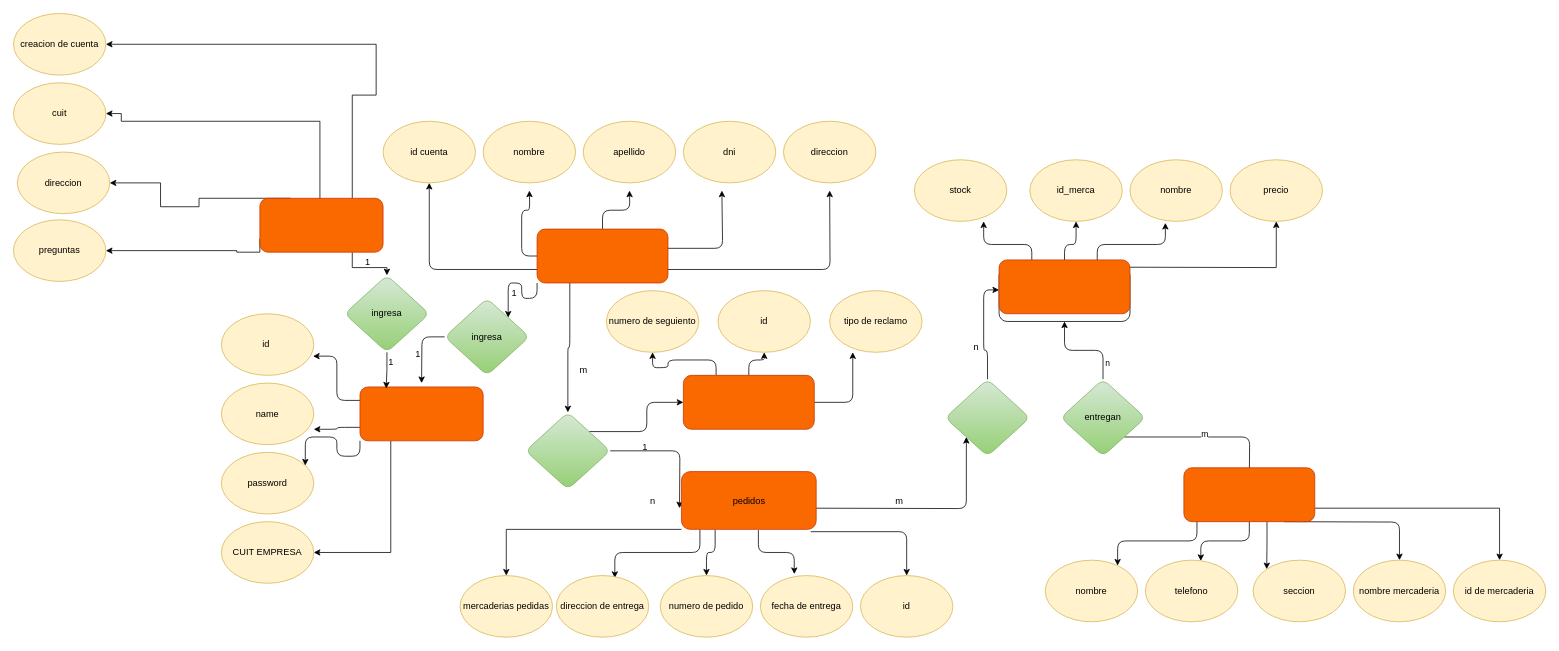
The diagram is 1559 pixels wide and 651 high, and some of its shapes have lost their labels. The shapes that lost their labels are listed below. From the top down, each one's centre as x and y in pixels, then its label:
At pixel 321 225: "Pagina de empresa".
At pixel 602 255: "Datos de cliente".
At pixel 1064 286: "mercaderias".
At pixel 421 413: "cuenta".
At pixel 748 402: "reclamos".
At pixel 987 417: "contiene".
At pixel 567 450: "realiza".
At pixel 1249 494: "proveedores".
